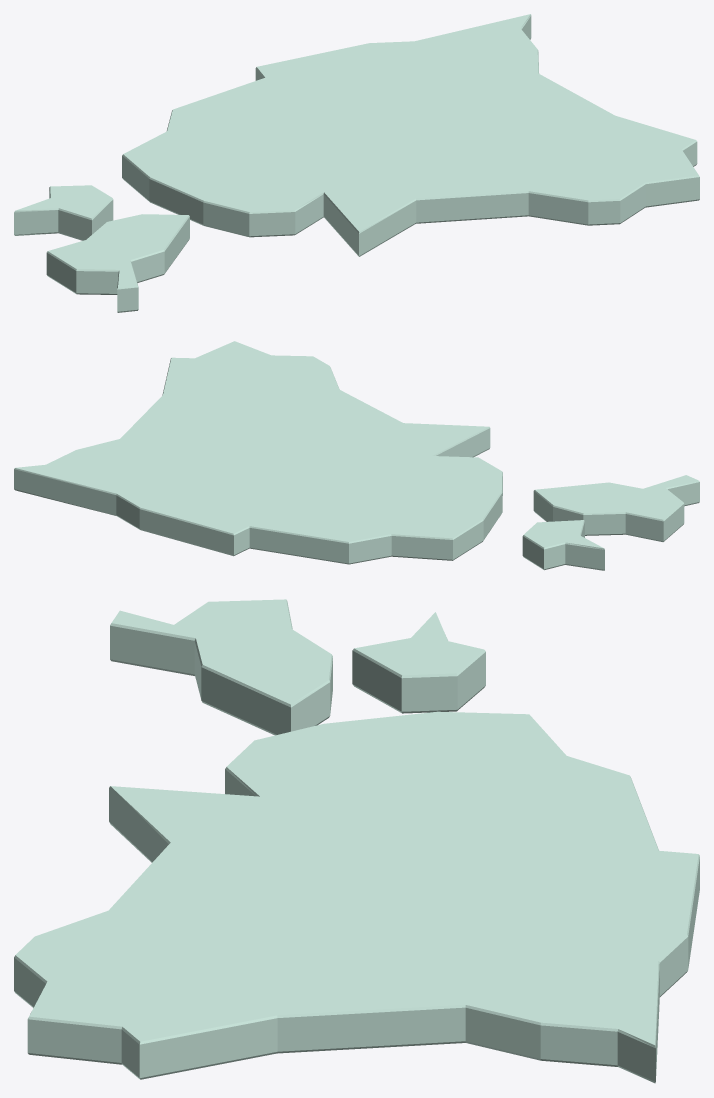
The model's file is EST.glb.
3 renders of one model, top to bottom at view 1: azimuth 30°, elevation 25°; view 2: azimuth 150°, elevation 25°; view 3: azimuth 270°, elevation 25°, orthographic. The views are drawn at different scales.
Bounding box in the file's own units: 1.71 × 0.068 × 1.11.
